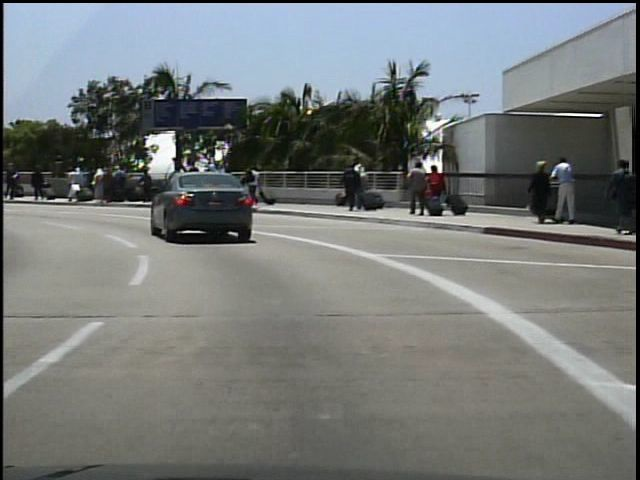person: (601, 156, 635, 240), (549, 154, 580, 229), (525, 157, 552, 228), (405, 161, 430, 221), (340, 161, 361, 214), (427, 163, 447, 215), (245, 161, 267, 206), (5, 159, 22, 203), (30, 166, 48, 202), (16, 166, 33, 204)
